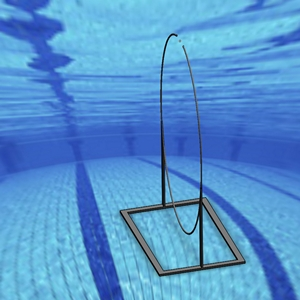circle: (117, 32, 252, 278)
